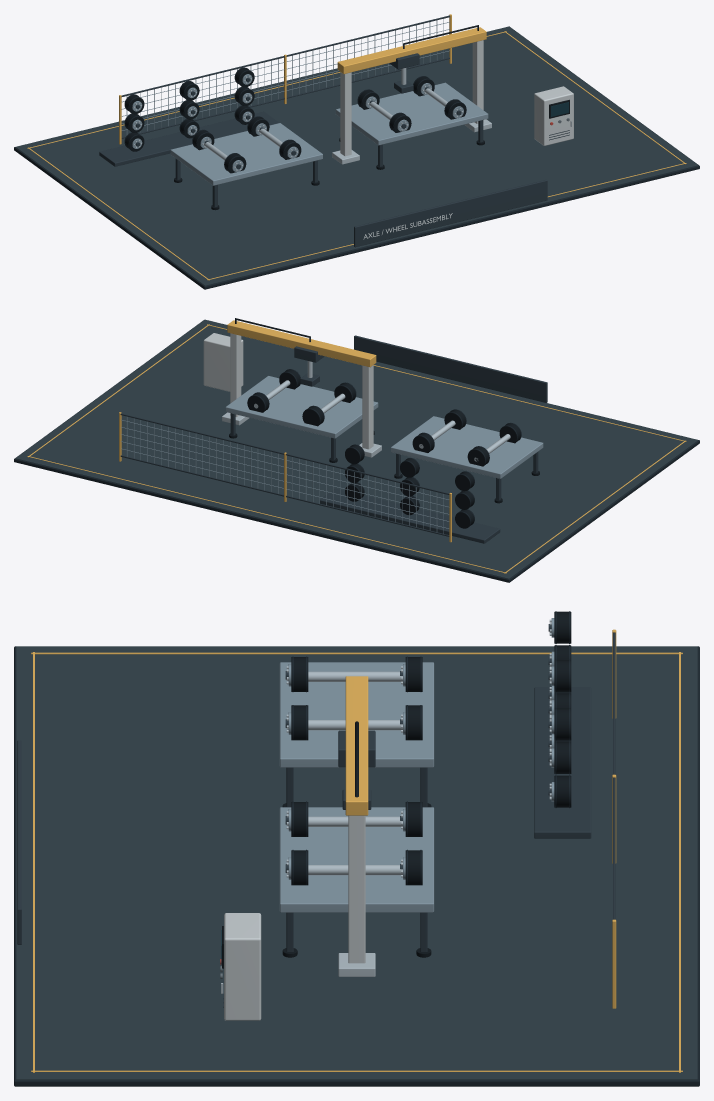
Rendered from axle-cell.glb.
3 views of the same model, one above another, from view 1: azimuth 30°, elevation 25°; view 2: azimuth 150°, elevation 25°; view 3: azimuth 270°, elevation 25° (orthographic). The views are drawn at different scales.
Parts seen in each view (by area): view 1: axle_cell_Workshop_Epoxy, axle_cell_Brushed_Aluminium, axle_cell_Enamel_Graphite, axle_cell_Rubber_Seal, axle_cell_Cast_Base, axle_cell_Safety_Amber, axle_cell_Enamel_Pearl, axle_cell_Machined_Steel; view 2: axle_cell_Workshop_Epoxy, axle_cell_Brushed_Aluminium, axle_cell_Enamel_Graphite, axle_cell_Rubber_Seal, axle_cell_Safety_Amber, axle_cell_Cast_Base, axle_cell_Enamel_Pearl, axle_cell_Machined_Steel; view 3: axle_cell_Workshop_Epoxy, axle_cell_Brushed_Aluminium, axle_cell_Enamel_Graphite, axle_cell_Cast_Base, axle_cell_Safety_Amber, axle_cell_Rubber_Seal, axle_cell_Enamel_Pearl, axle_cell_Machined_Steel.
Boxes of the visible parts, <box> form: axle_cell_Workshop_Epoxy: <box>15,26,698,285</box>; axle_cell_Brushed_Aluminium: <box>121,19,488,185</box>; axle_cell_Enamel_Graphite: <box>99,15,569,247</box>; axle_cell_Rubber_Seal: <box>125,25,569,210</box>; axle_cell_Cast_Base: <box>14,26,699,289</box>; axle_cell_Safety_Amber: <box>27,14,686,280</box>; axle_cell_Enamel_Pearl: <box>340,40,573,156</box>; axle_cell_Machined_Steel: <box>133,68,571,171</box>; axle_cell_Workshop_Epoxy: <box>15,319,698,578</box>; axle_cell_Brushed_Aluminium: <box>121,376,543,533</box>; axle_cell_Enamel_Graphite: <box>120,335,547,543</box>; axle_cell_Rubber_Seal: <box>229,318,539,528</box>; axle_cell_Safety_Amber: <box>27,320,686,573</box>; axle_cell_Cast_Base: <box>14,320,699,582</box>; axle_cell_Enamel_Pearl: <box>203,333,373,449</box>; axle_cell_Machined_Steel: <box>222,361,510,461</box>; axle_cell_Workshop_Epoxy: <box>16,646,697,1079</box>; axle_cell_Brushed_Aluminium: <box>279,618,554,912</box>; axle_cell_Enamel_Graphite: <box>17,624,615,1007</box>; axle_cell_Cast_Base: <box>14,611,699,1086</box>; axle_cell_Safety_Amber: <box>31,629,682,1072</box>; axle_cell_Rubber_Seal: <box>222,611,571,968</box>; axle_cell_Enamel_Pearl: <box>224,815,365,1020</box>; axle_cell_Machined_Steel: <box>221,619,551,993</box>.
Bounding box in the file's own units: 18 × 3.64 × 12.
